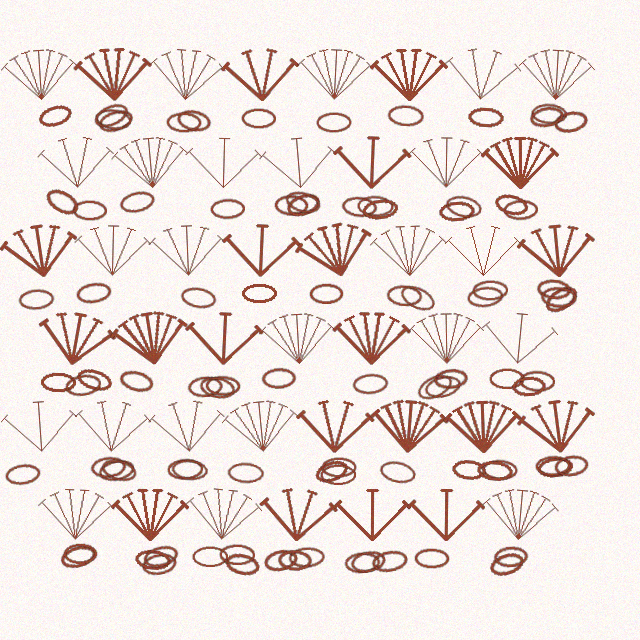chain: (414, 369, 456, 404), (541, 281, 581, 317), (42, 184, 82, 219), (397, 281, 438, 315), (91, 99, 132, 132), (312, 456, 352, 487), (284, 189, 323, 220), (96, 106, 136, 136), (74, 365, 114, 395), (36, 101, 75, 131), (487, 549, 526, 579), (283, 188, 323, 217), (423, 372, 463, 401), (99, 456, 139, 485), (58, 542, 98, 571), (141, 542, 181, 571), (117, 367, 156, 396), (118, 188, 157, 216), (492, 191, 531, 219), (378, 458, 417, 486), (223, 550, 261, 578), (262, 546, 300, 574), (444, 193, 483, 220), (198, 374, 237, 401), (97, 457, 136, 484), (175, 107, 213, 134), (552, 108, 590, 135), (349, 548, 387, 575), (179, 285, 218, 311), (370, 548, 409, 574), (528, 104, 566, 130), (75, 280, 113, 306), (64, 372, 102, 398), (140, 551, 178, 577), (94, 107, 132, 132), (361, 197, 399, 222), (4, 462, 42, 487), (536, 455, 574, 480), (553, 453, 590, 478), (466, 285, 504, 309), (341, 195, 378, 219), (352, 372, 389, 396), (90, 455, 127, 479), (171, 458, 208, 482), (476, 459, 513, 483), (134, 548, 171, 572), (433, 367, 469, 391), (451, 458, 487, 482), (387, 104, 424, 127), (467, 106, 504, 129), (438, 200, 475, 223), (18, 288, 55, 311), (386, 284, 423, 307), (288, 546, 325, 569), (344, 551, 381, 574), (536, 278, 572, 301), (187, 375, 223, 398), (511, 375, 547, 398), (493, 545, 529, 568), (357, 195, 394, 217), (540, 286, 577, 308), (227, 462, 264, 484), (531, 103, 567, 125), (205, 375, 241, 397), (261, 367, 297, 389), (519, 370, 555, 392), (167, 458, 203, 480), (482, 459, 518, 481), (535, 455, 571, 477), (277, 549, 313, 571), (210, 198, 245, 220), (274, 194, 309, 216), (503, 199, 538, 221), (166, 112, 202, 133), (316, 112, 352, 133), (241, 283, 277, 304), (472, 280, 508, 301), (40, 372, 76, 393), (489, 368, 525, 389), (321, 457, 357, 478), (320, 464, 356, 485), (192, 546, 228, 567), (219, 544, 255, 565), (414, 548, 450, 569), (241, 108, 276, 129), (72, 200, 107, 221), (309, 283, 344, 304), (63, 543, 98, 564)
fan: (291, 213, 379, 286), (33, 303, 119, 373), (107, 303, 193, 372), (515, 392, 599, 459), (0, 216, 82, 284), (441, 41, 524, 106), (478, 305, 561, 370), (219, 393, 302, 458), (182, 481, 265, 546), (515, 218, 598, 282), (146, 42, 228, 106), (109, 130, 191, 194), (257, 130, 339, 194), (257, 482, 339, 546), (479, 482, 561, 546), (146, 394, 228, 457), (368, 394, 450, 457), (72, 394, 153, 457), (0, 394, 80, 457), (220, 43, 301, 105), (516, 43, 597, 105), (257, 307, 338, 369), (0, 43, 80, 105), (73, 43, 153, 104), (295, 43, 375, 104), (36, 131, 116, 192), (332, 131, 412, 192), (147, 219, 227, 280), (221, 219, 301, 280), (184, 307, 264, 368), (295, 395, 375, 456), (36, 483, 116, 544), (184, 132, 263, 192), (369, 220, 448, 280), (443, 396, 522, 456), (73, 220, 152, 279), (332, 308, 411, 367), (407, 132, 485, 191), (407, 308, 485, 367), (370, 45, 448, 103), (481, 133, 559, 191), (444, 221, 522, 279), (111, 485, 189, 543), (333, 485, 411, 543), (407, 485, 485, 543)
